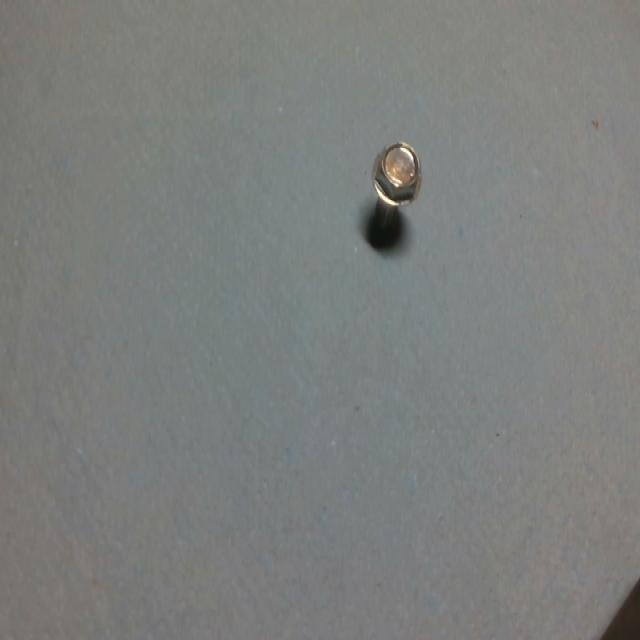Bolt: (371, 143, 421, 243)
